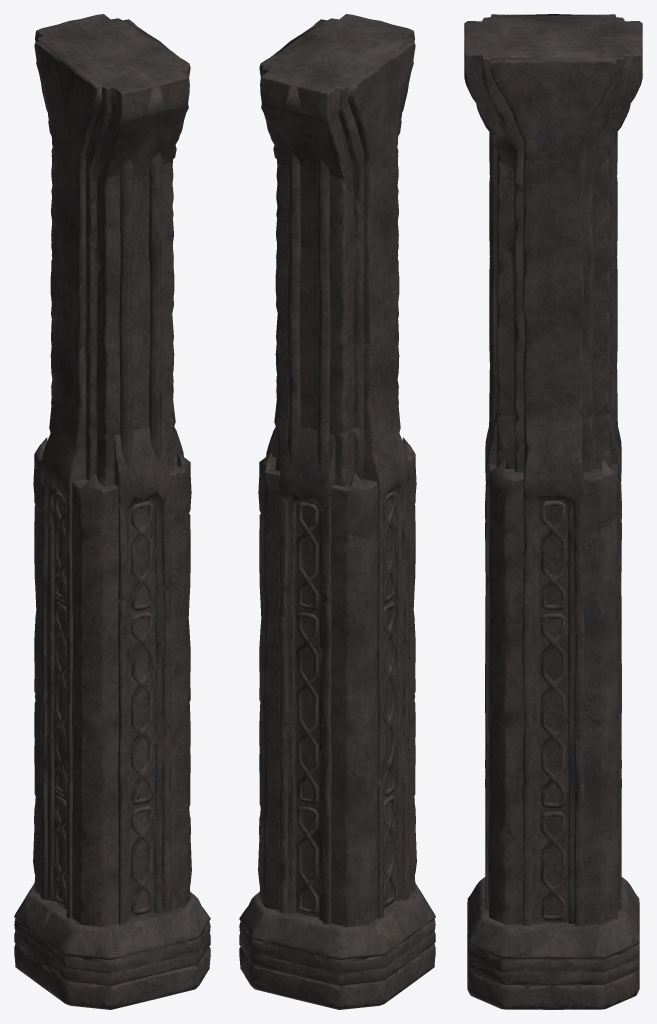
File: SM_BridgeCoumn.fbx
The picture shows the model from 3 angles, left to right: view 1: azimuth 30°, elevation 25°; view 2: azimuth 150°, elevation 25°; view 3: azimuth 270°, elevation 25°; orthographic projection. The views are drawn at different scales.
Parts seen in each view (by area): view 1: SM_BridgeCoumn_LOD0; view 2: SM_BridgeCoumn_LOD0; view 3: SM_BridgeCoumn_LOD0.
Boxes of the visible parts, x1,y1,x2,y2 form: SM_BridgeCoumn_LOD0: (14,14,210,1009); SM_BridgeCoumn_LOD0: (239,14,435,1009); SM_BridgeCoumn_LOD0: (464,14,642,1009).
Bounding box in the file's own units: 200 × 207 × 1200.
2 materials, 2 textured.
